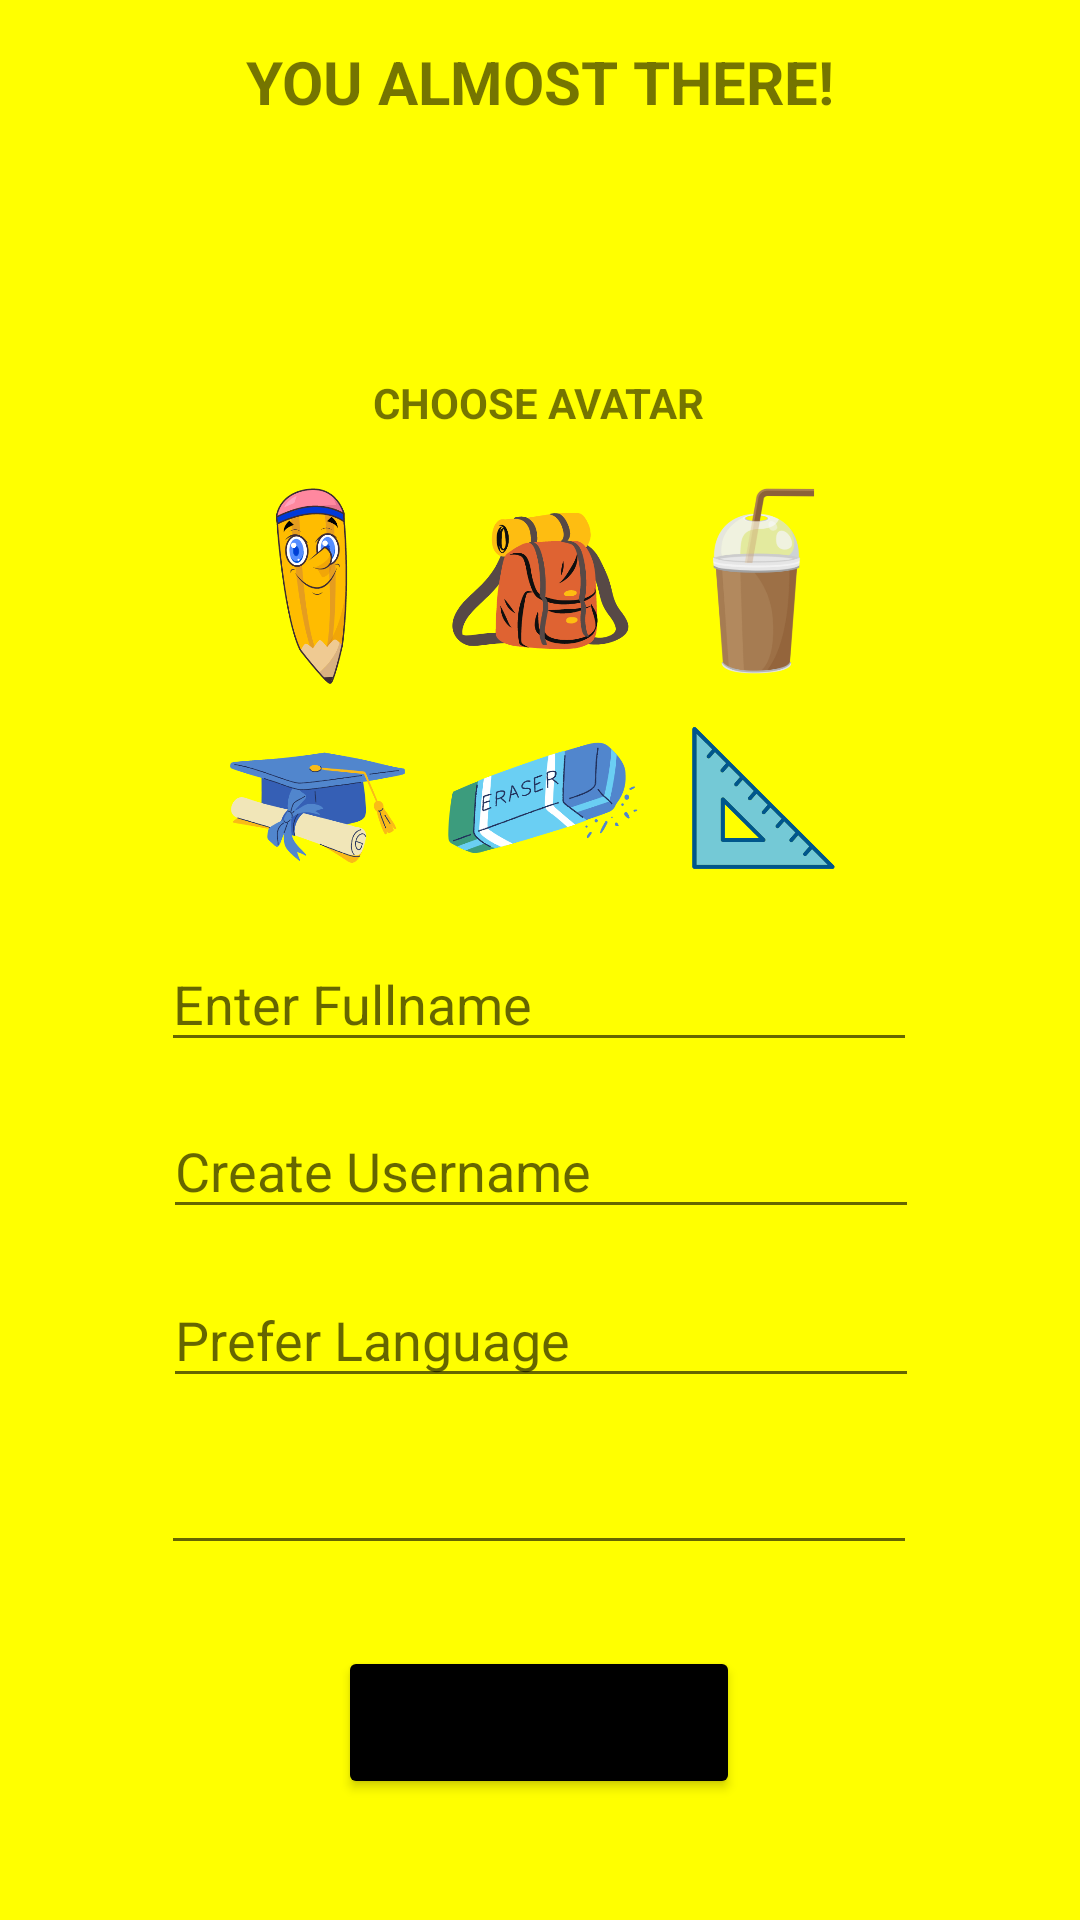

Icon click points for this 1080x1920 phone screenshot, format (x,y):
bag: (540,581)
hat: (317,807)
pen: (311,586)
ruler: (763,798)
